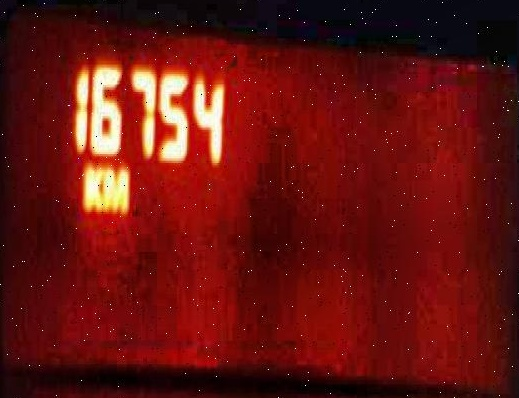1: (72, 54, 87, 152)
4: (189, 67, 223, 160)
5: (157, 65, 187, 165)
6: (91, 56, 122, 156)
7: (127, 58, 154, 156)
X: (100, 160, 129, 214), (81, 158, 101, 214)
